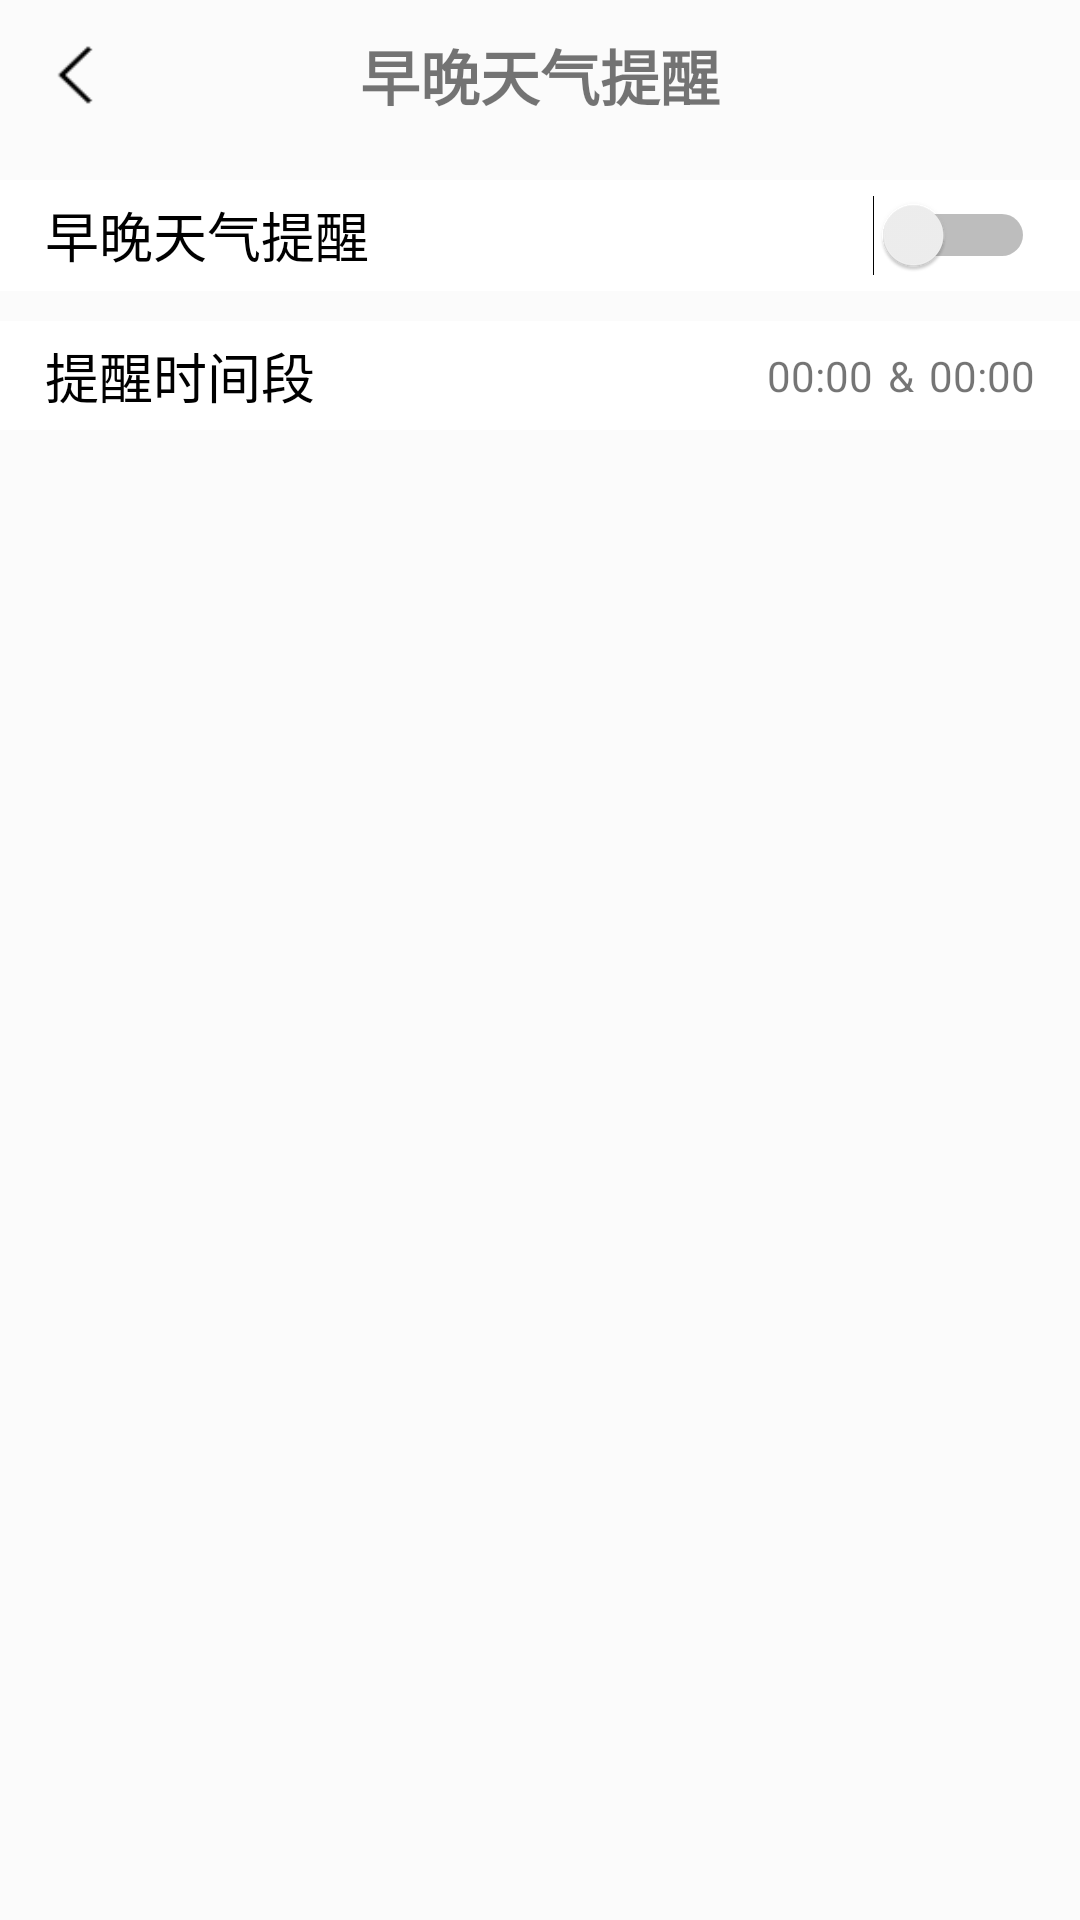

Where to tap for icons on this 1080px x 1920px app screen, as point (x, y):
left arrow: point (75, 75)
